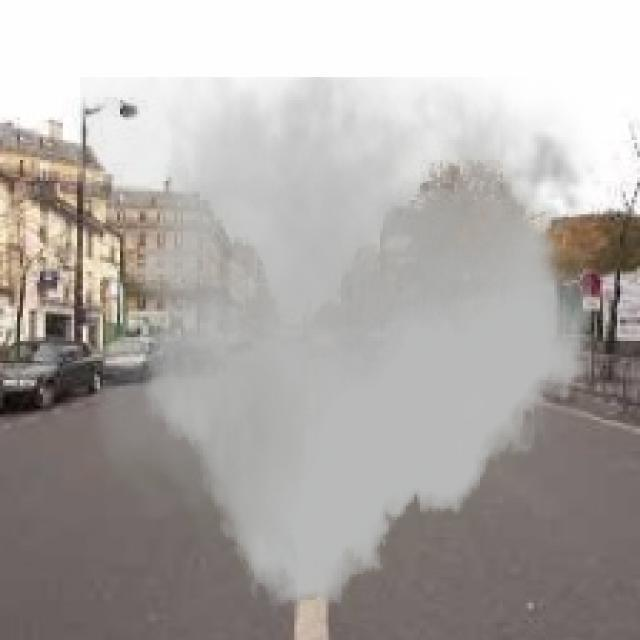Smoke: (80, 77, 600, 606)
